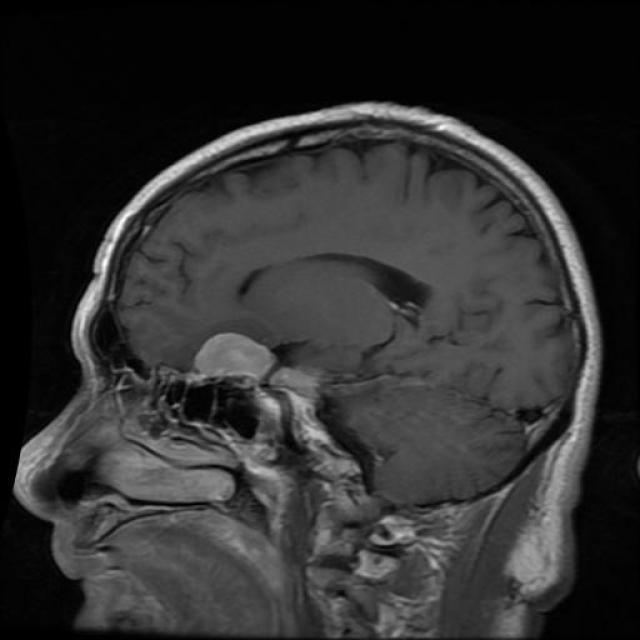meningioma: (191, 332, 278, 381)
